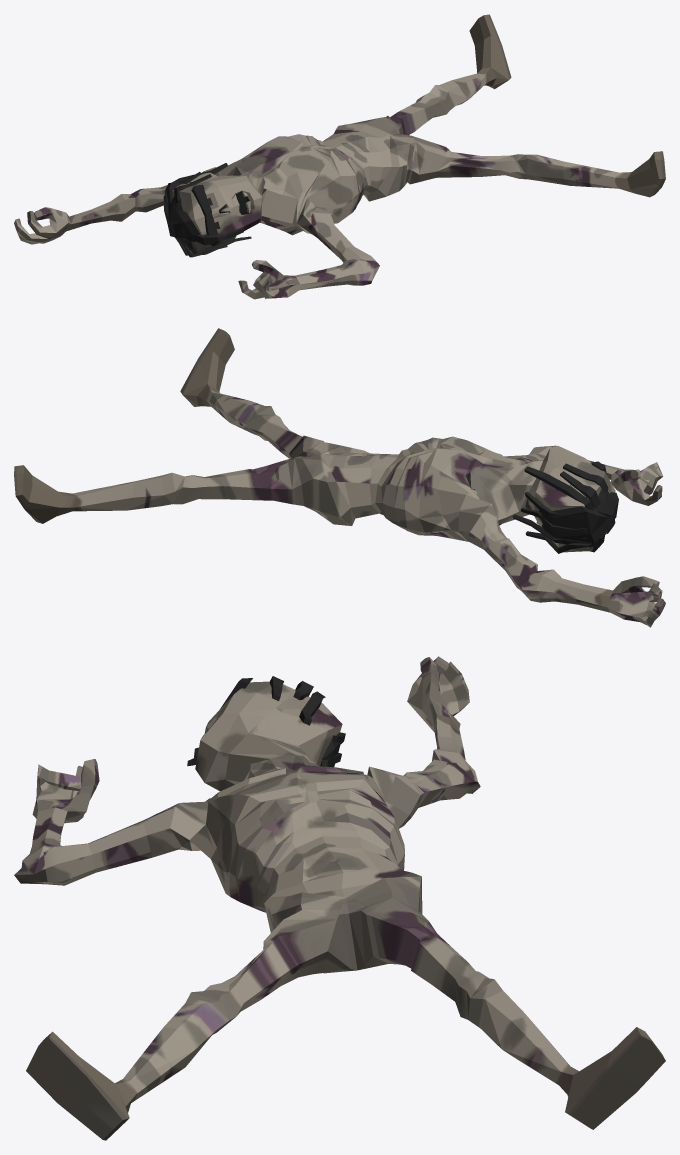
The model's file is apoc_SM_DeadBody_Male_14.gltf.
3 renders of one model, top to bottom at view 1: azimuth 30°, elevation 25°; view 2: azimuth 150°, elevation 25°; view 3: azimuth 270°, elevation 25°, orthographic. The views are drawn at different scales.
Visible parts, largest first — view 1: SM_DeadBody_Male_14; view 2: SM_DeadBody_Male_14; view 3: SM_DeadBody_Male_14.
Part boxes in pixels (bbox=[...]): SM_DeadBody_Male_14: bbox=[14, 14, 665, 299]; SM_DeadBody_Male_14: bbox=[14, 328, 665, 627]; SM_DeadBody_Male_14: bbox=[14, 656, 665, 1140].
Bounding box in the file's own units: 2.08 × 0.2987 × 1.32.
1 material, 1 textured.
